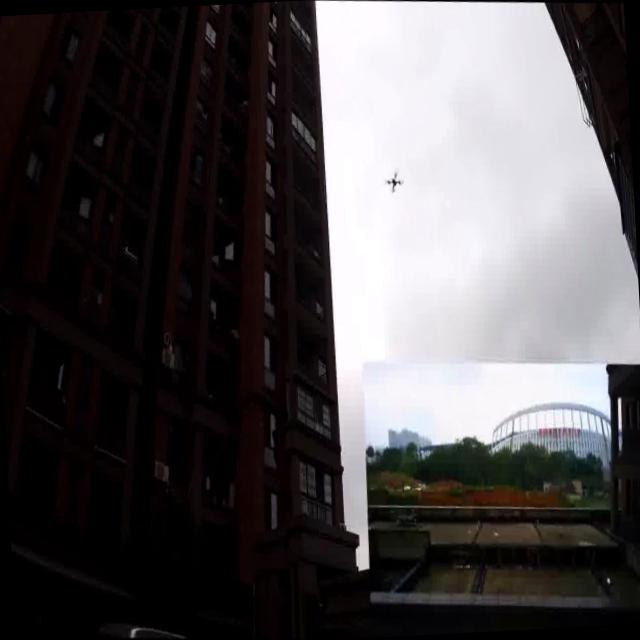drone: (377, 161, 408, 204)
